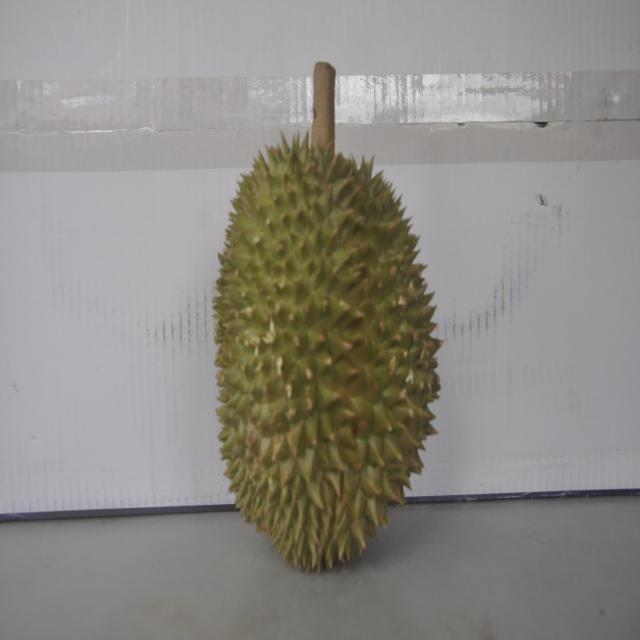mature: (208, 123, 438, 572)
